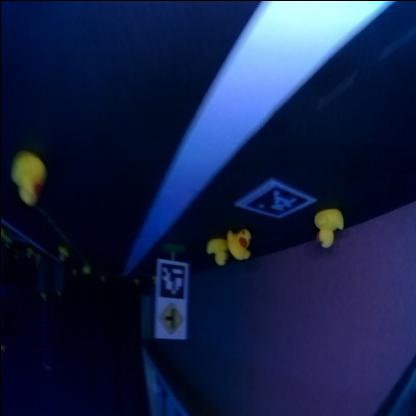Duckie: (13, 152, 45, 204), (314, 210, 342, 248), (226, 230, 250, 260), (208, 239, 226, 265), (58, 247, 66, 262), (24, 246, 31, 258), (39, 292, 45, 300), (131, 276, 137, 284), (82, 268, 88, 275), (71, 272, 76, 276)
Intersection sign: (156, 302, 184, 338)
QR code: (235, 181, 314, 217), (156, 261, 186, 297)
